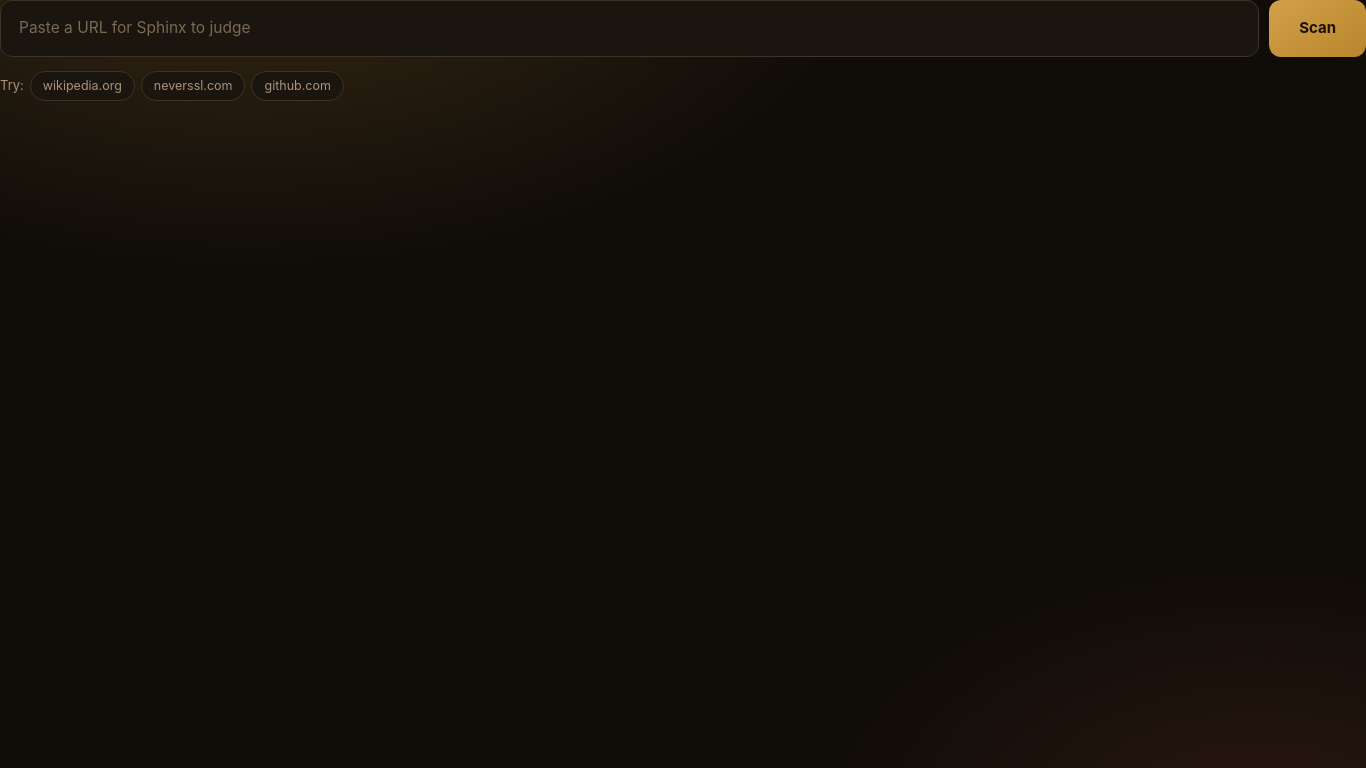
Scanner › renders a verdict, its rationale, and the live-sample metrics
The width and height of the screenshot is (1366, 768).
In the field named "URL to scan": x=630, y=28 [0, 0, 1259, 57], type "https://example.com"
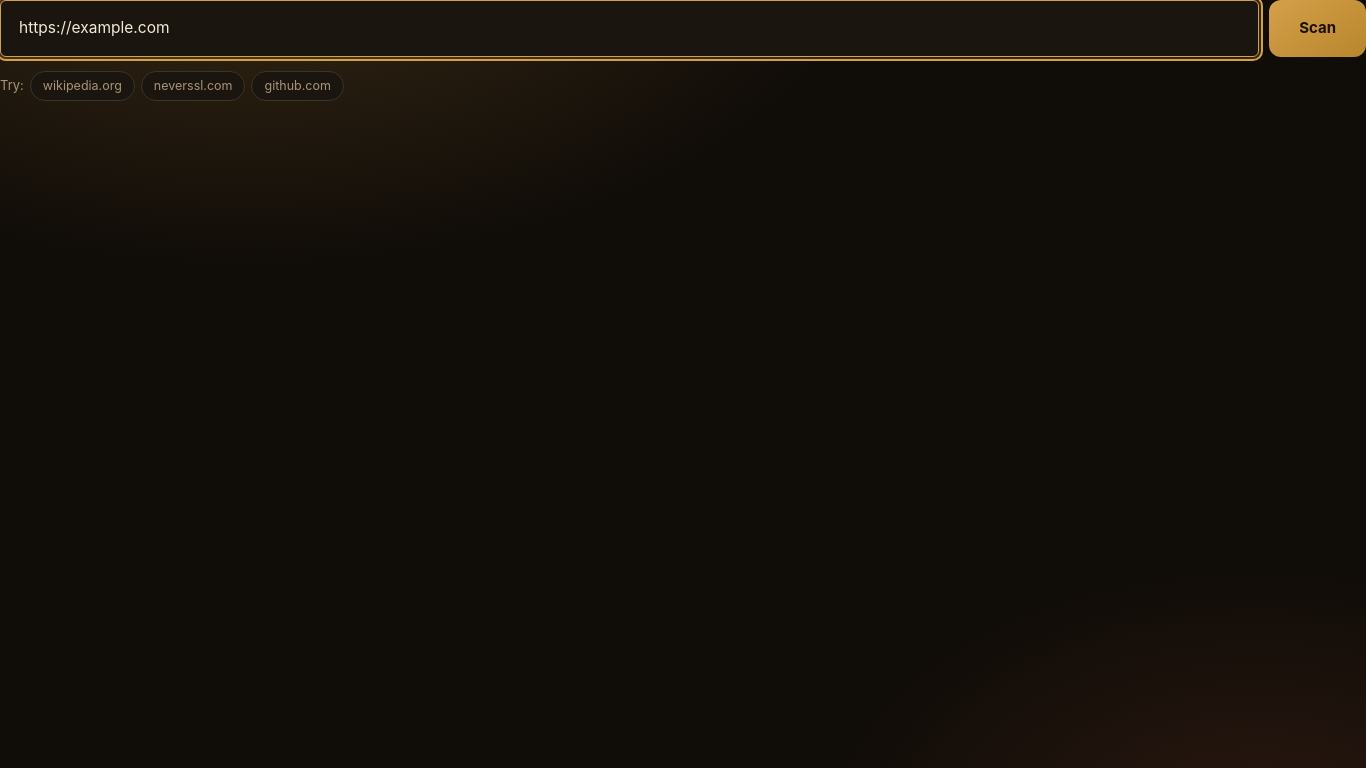
Click the button "Scan": x=1318, y=28 [1269, 0, 1365, 57]
(page scrolled)
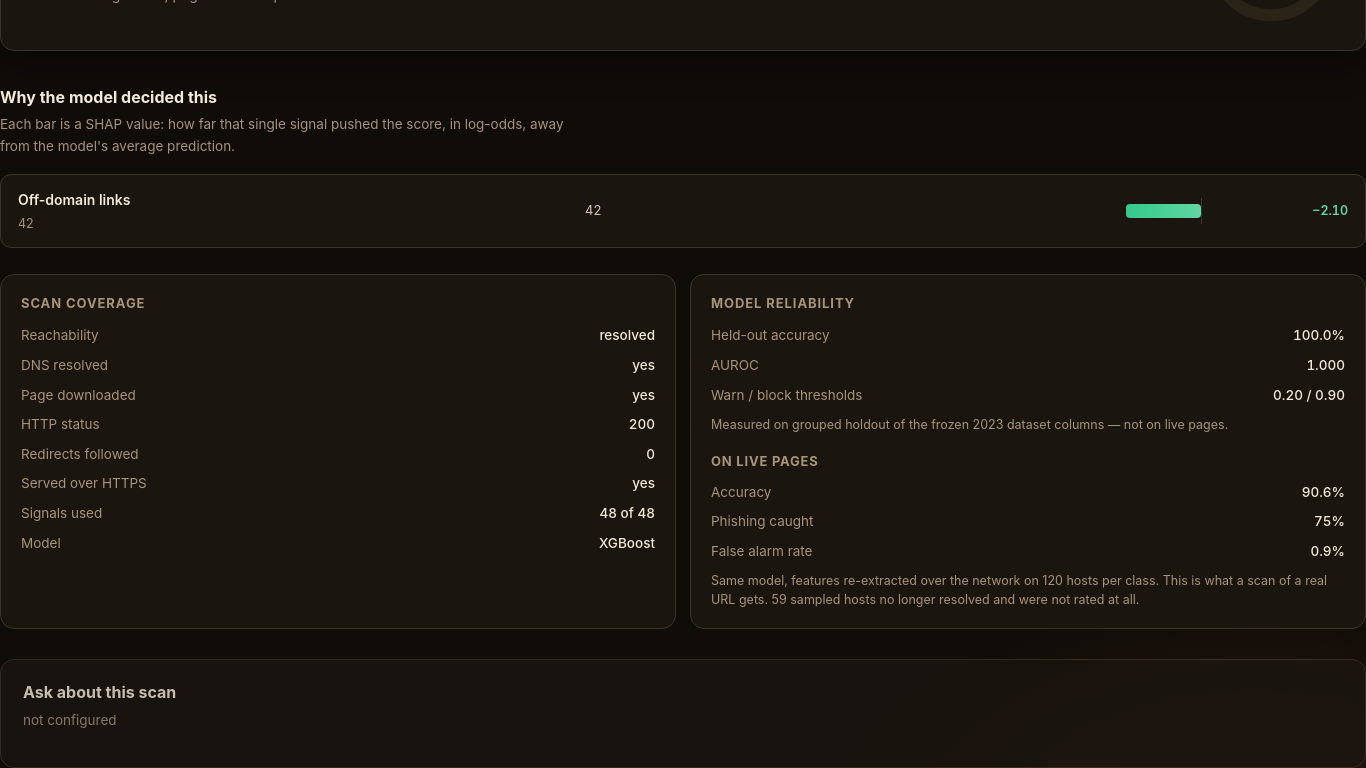
Check: the text "100.0%" is shown, box [1293, 327, 1345, 343]
Check: the text "90.6%" is shown, box [1302, 482, 1345, 503]
Check: the text "not on live pages" is shown, box [1104, 417, 1228, 432]
